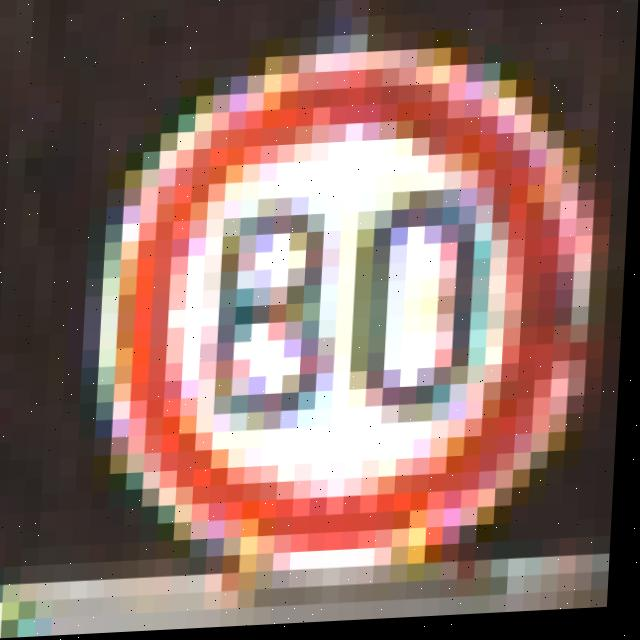speed_limit_80: (91, 0, 580, 583)
